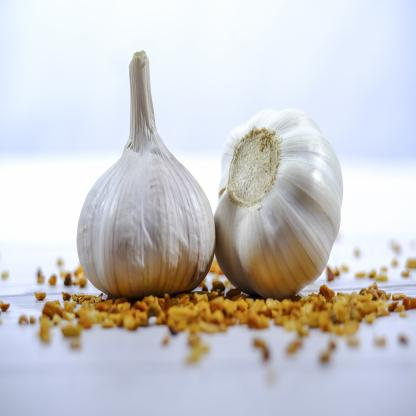garlic: (77, 52, 214, 289), (216, 114, 340, 290)
